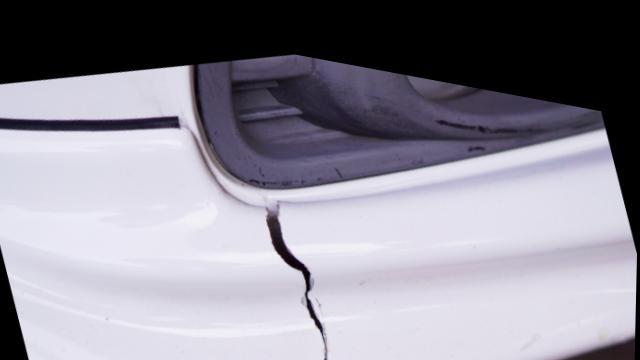crack: (267, 190, 331, 360)
